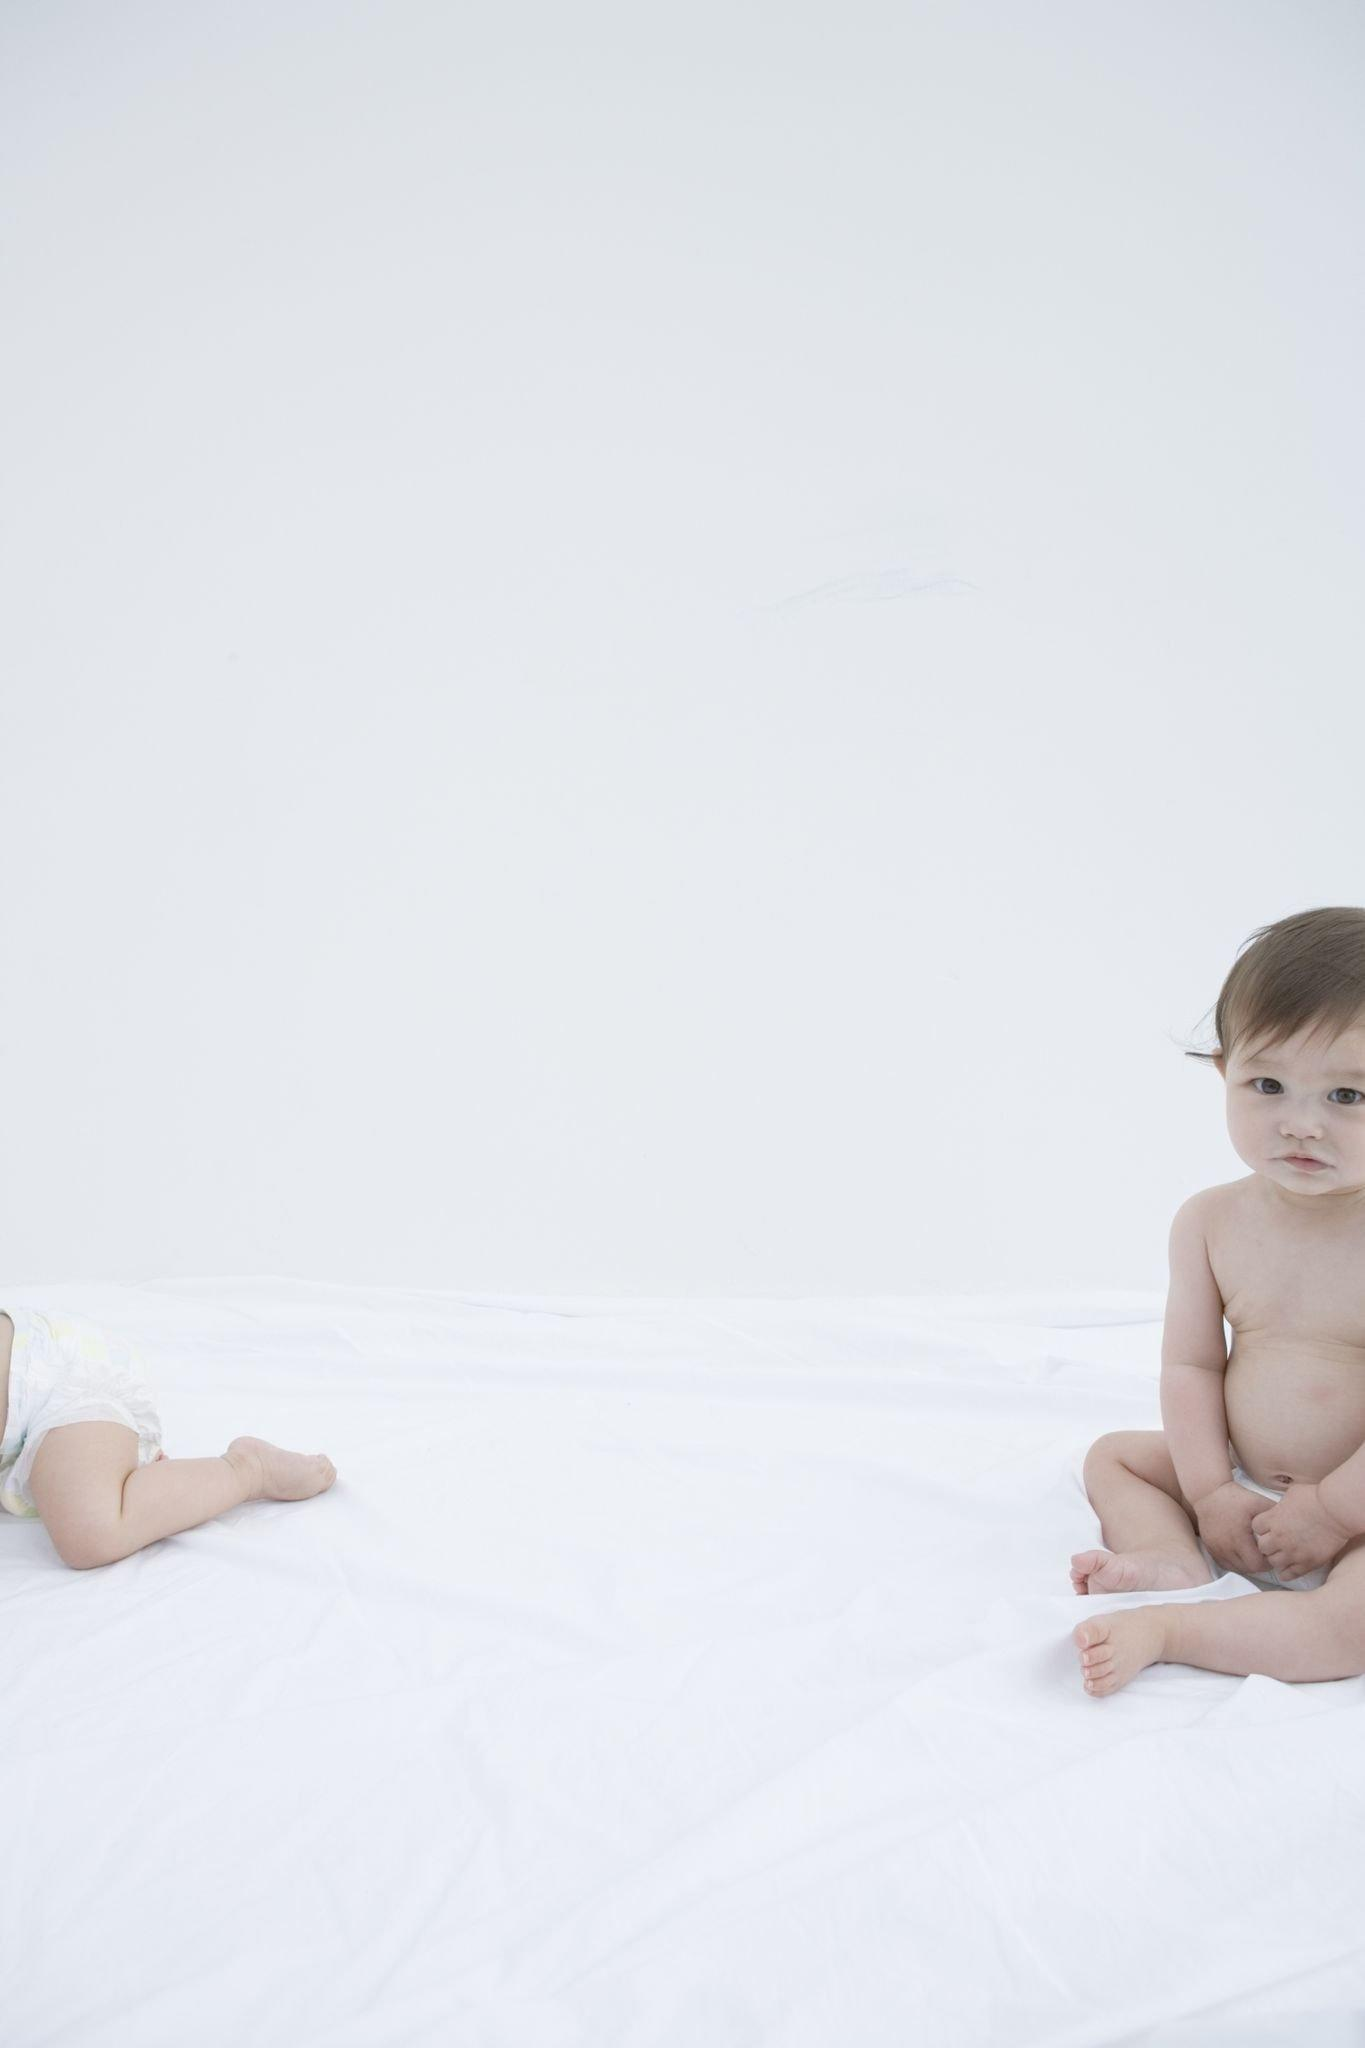Healthy: (1222, 967, 1365, 1212)
